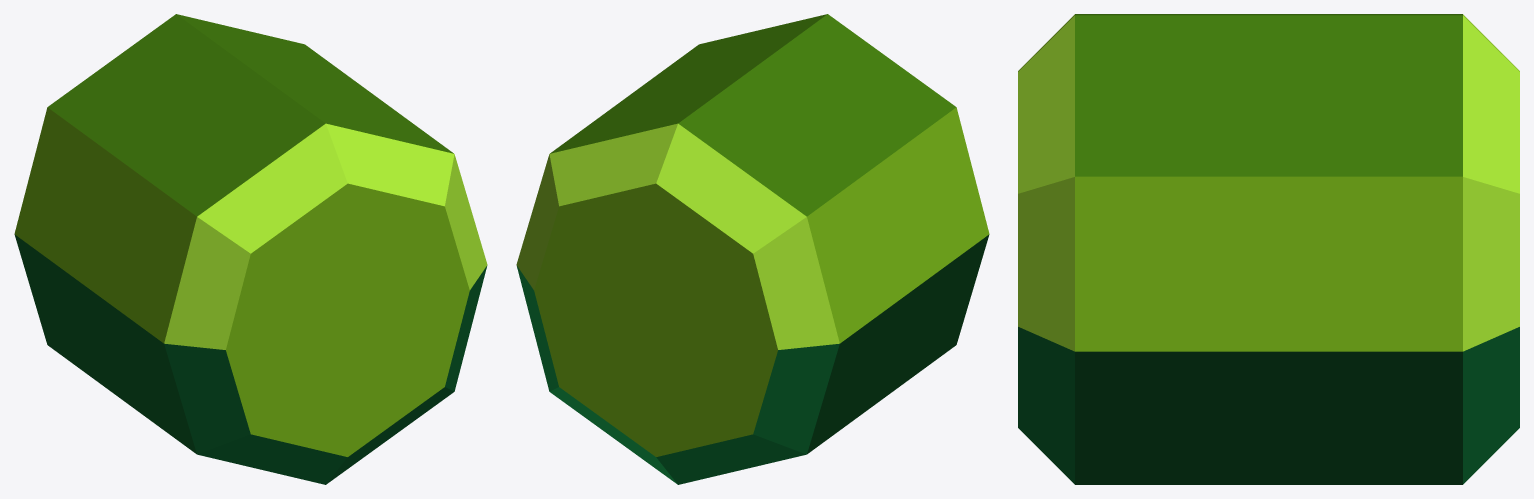
File: 3d_HealthPoints_001.fbx
3 views of the same model, side by side, from view 1: azimuth 30°, elevation 25°; view 2: azimuth 150°, elevation 25°; view 3: azimuth 270°, elevation 25° (orthographic). The views are drawn at different scales.
Parts seen in each view (by area): view 1: GEO_HealthPoints.001; view 2: GEO_HealthPoints.001; view 3: GEO_HealthPoints.001.
Part boxes in pixels (box(x1,y1,x2,y2)): GEO_HealthPoints.001: box(14, 14, 487, 484); GEO_HealthPoints.001: box(516, 14, 989, 484); GEO_HealthPoints.001: box(1018, 14, 1519, 484).
Bounding box in the file's own units: 0.1697 × 0.176 × 0.1812.
